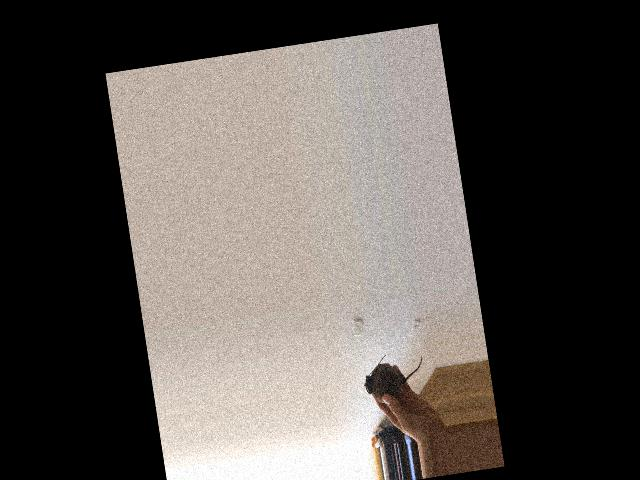beet: (360, 348, 428, 406)
